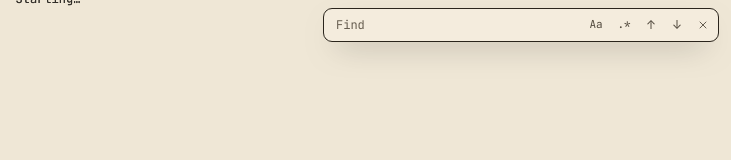
TerminalPane find (F16) › opens only in the focused pane of the tab in front, and searches as you type
The width and height of the screenshot is (731, 160).
Type "error" into the field labelled "Find" at coordinates (422, 25), box [332, 13, 512, 37]
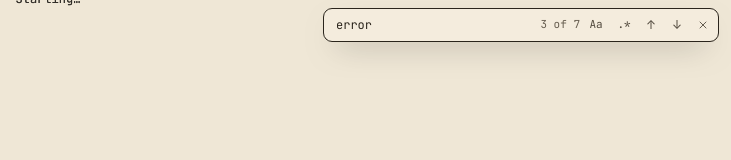
Result: the text "3 of 7" is shown at [540, 17, 580, 31]
